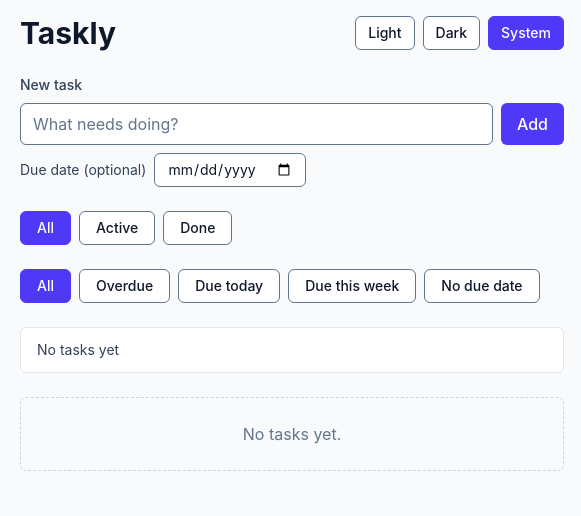
Test: App › announcements › announces a blank submit once, through the status region only
What coordinates should you click on to do the following:
click the button "Add"
I would click on:
 (532, 124)
Its box is [501,103,564,145].
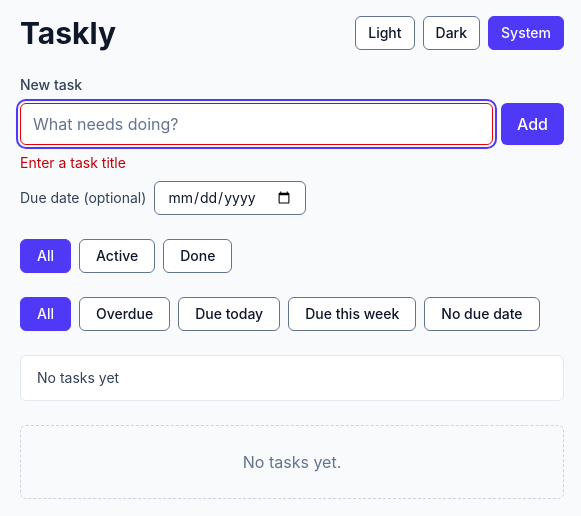
Check: the text "No tasks yet." is shown, box [20,425,564,499]
Check: the text "Enter a task title" is shown, box [20,154,126,171]
